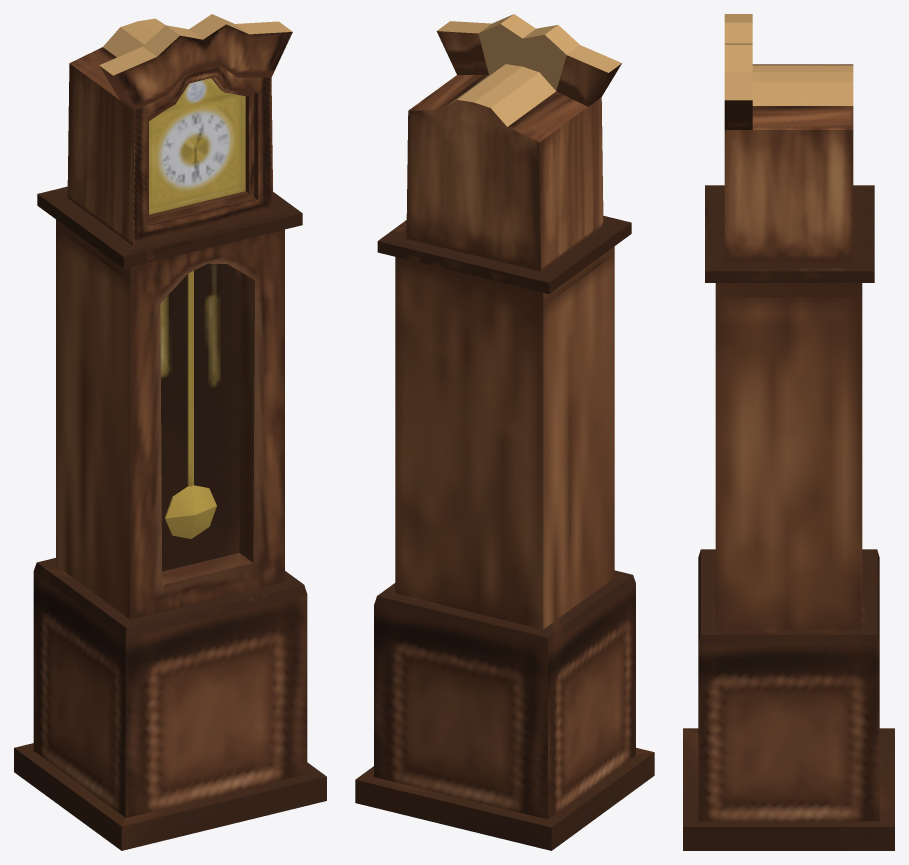
File: clock.fbx
3 renders of one model, left to right at view 1: azimuth 30°, elevation 25°; view 2: azimuth 150°, elevation 25°; view 3: azimuth 270°, elevation 25°, orthographic. The views are drawn at different scales.
Parts seen in each view (by area): view 1: relogioAntigo; view 2: relogioAntigo; view 3: relogioAntigo.
Boxes of the visible parts, x1,y1,x2,y2 form: relogioAntigo: (14, 14, 326, 850); relogioAntigo: (355, 14, 654, 850); relogioAntigo: (683, 14, 894, 850).
Bounding box in the file's own units: 384 × 1395 × 349.
